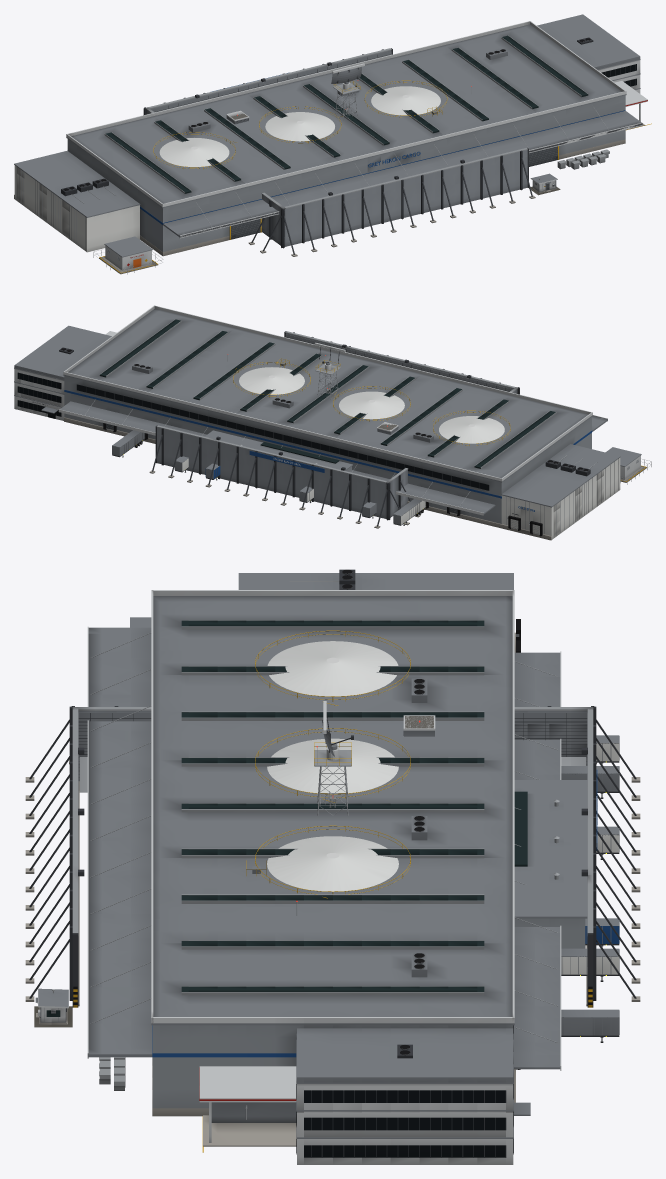
The model's file is airfac.glb.
3 renders of one model, top to bottom at view 1: azimuth 30°, elevation 25°; view 2: azimuth 150°, elevation 25°; view 3: azimuth 270°, elevation 25°, orthographic. The views are drawn at different scales.
Parts seen in each view (by area): view 1: af_cargo, af_runup, af_fuel, af_asr; view 2: af_cargo, af_runup, af_fuel, af_gseb, af_asr; view 3: af_cargo, af_fuel, af_runup, af_gseb, af_asr.
Part boxes in pixels (x1,y1,x2,y2): af_cargo: [14, 14, 642, 274]; af_runup: [143, 48, 560, 256]; af_fuel: [153, 80, 651, 169]; af_asr: [331, 63, 364, 119]; af_cargo: [14, 305, 651, 540]; af_runup: [149, 331, 519, 528]; af_fuel: [105, 331, 510, 445]; af_gseb: [205, 430, 352, 471]; af_asr: [314, 342, 345, 398]; af_cargo: [87, 569, 619, 1164]; af_fuel: [199, 630, 410, 1152]; af_runup: [25, 706, 640, 1027]; af_gseb: [514, 780, 587, 948]; af_asr: [314, 701, 353, 815].
Bounding box in the file's own units: 172 × 28.61 × 85.2.
